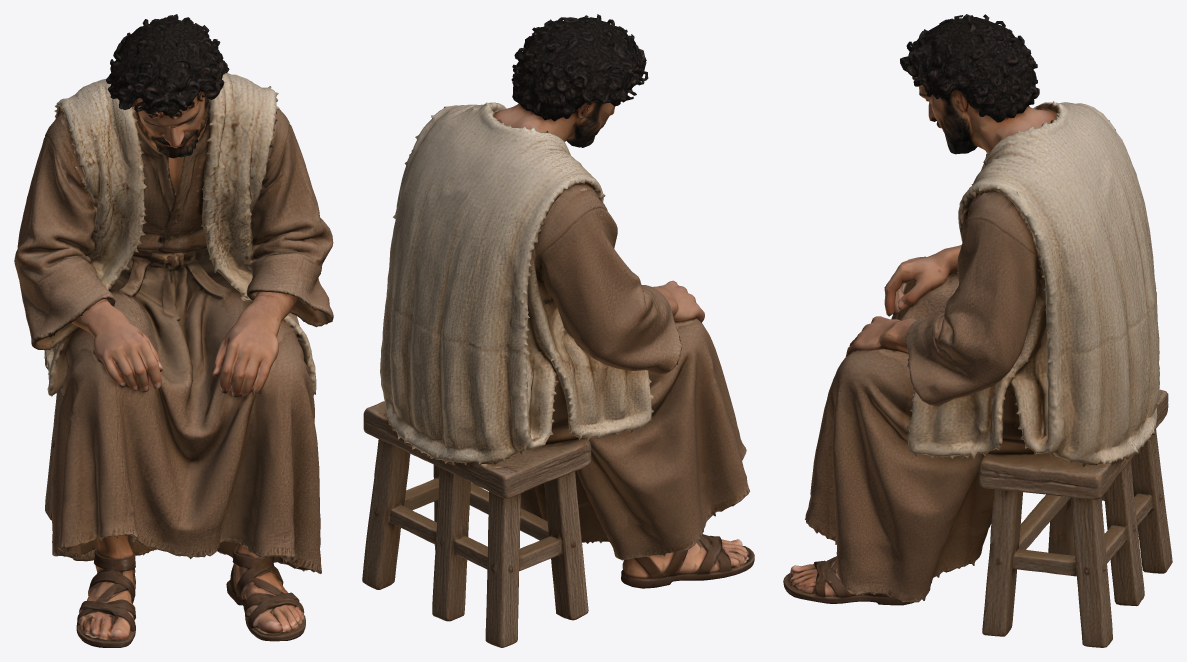
The model's file is joseph-seated-tripo-runtime.glb.
The picture shows the model from 3 angles, left to right: view 1: azimuth 30°, elevation 25°; view 2: azimuth 150°, elevation 25°; view 3: azimuth 270°, elevation 25°; orthographic projection.
Parts seen in each view (by area): view 1: tripo_node_d9757daa-69cc-493a-ba0f-900e31c1b382; view 2: tripo_node_d9757daa-69cc-493a-ba0f-900e31c1b382; view 3: tripo_node_d9757daa-69cc-493a-ba0f-900e31c1b382.
Part boxes in pixels (left/top/right/bottom): tripo_node_d9757daa-69cc-493a-ba0f-900e31c1b382: left=14, top=14, right=333, bottom=647; tripo_node_d9757daa-69cc-493a-ba0f-900e31c1b382: left=362, top=14, right=754, bottom=647; tripo_node_d9757daa-69cc-493a-ba0f-900e31c1b382: left=783, top=14, right=1172, bottom=647.
Size of the model in its own units: 0.7646 by 1.35 by 0.8548.
1 material, 1 textured.
